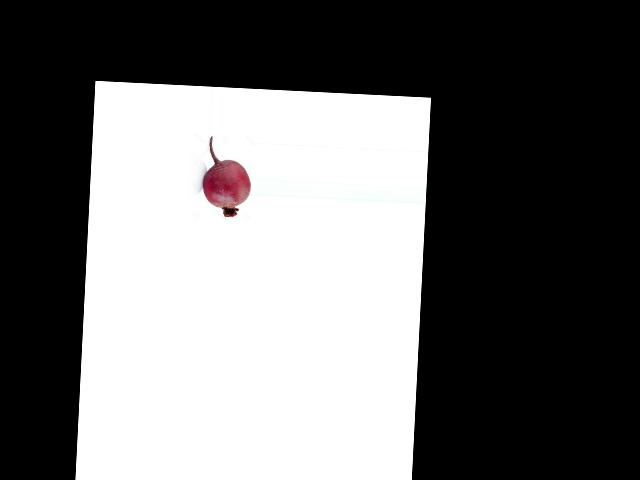beet: (201, 136, 252, 217)
